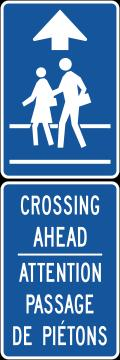School Ahead: (7, 0, 111, 179)
